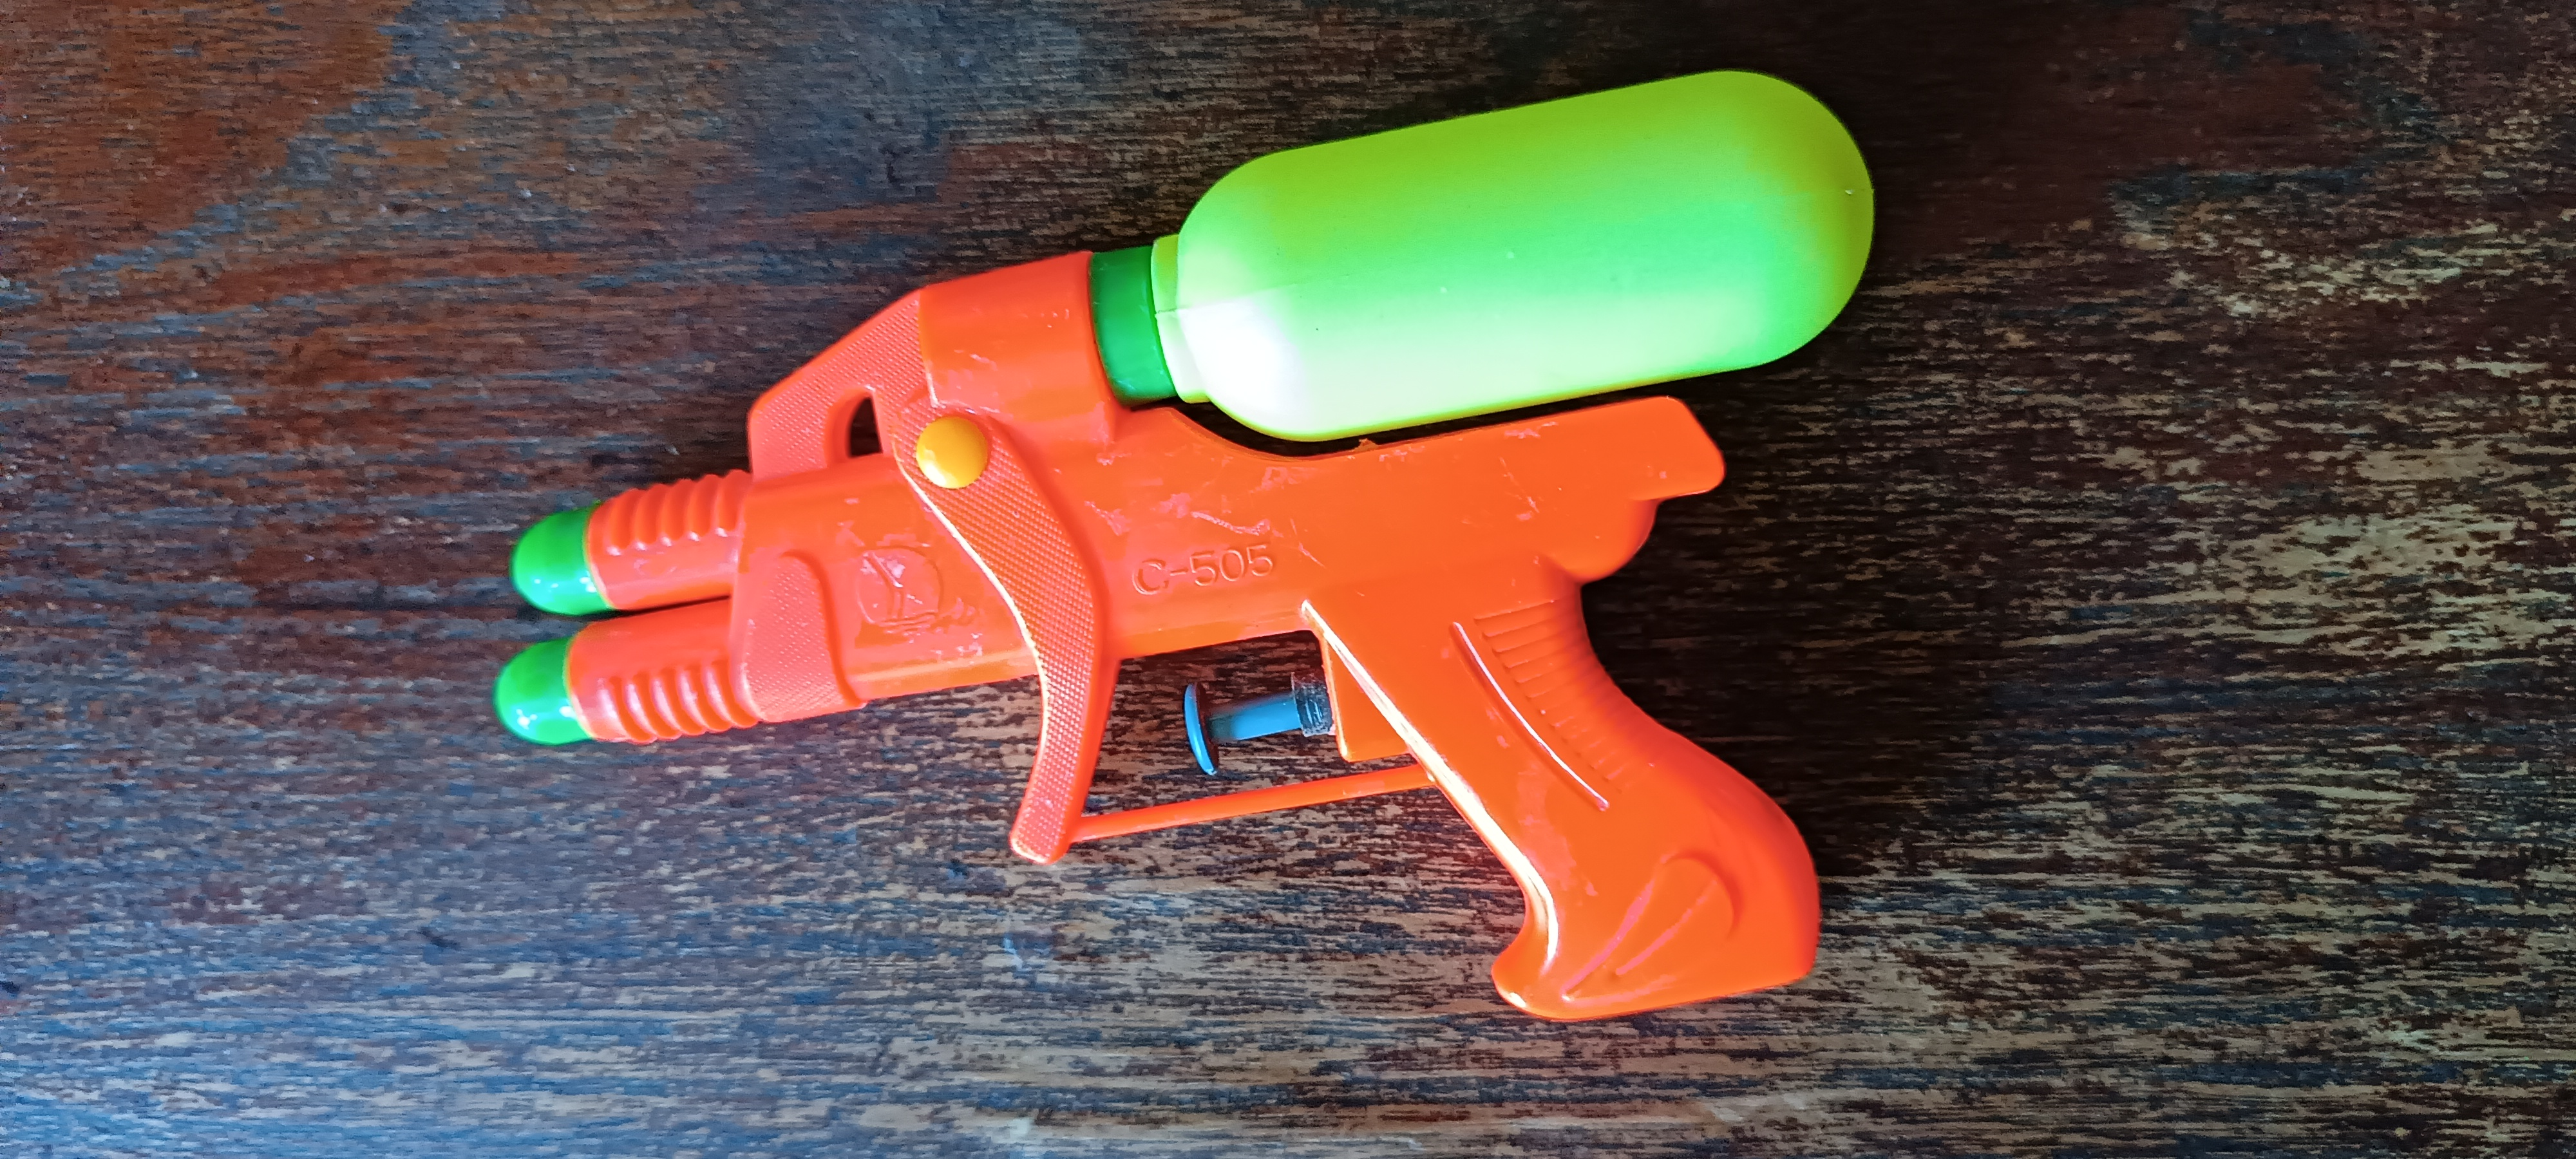Water Gun: (495, 72, 1878, 1023)
